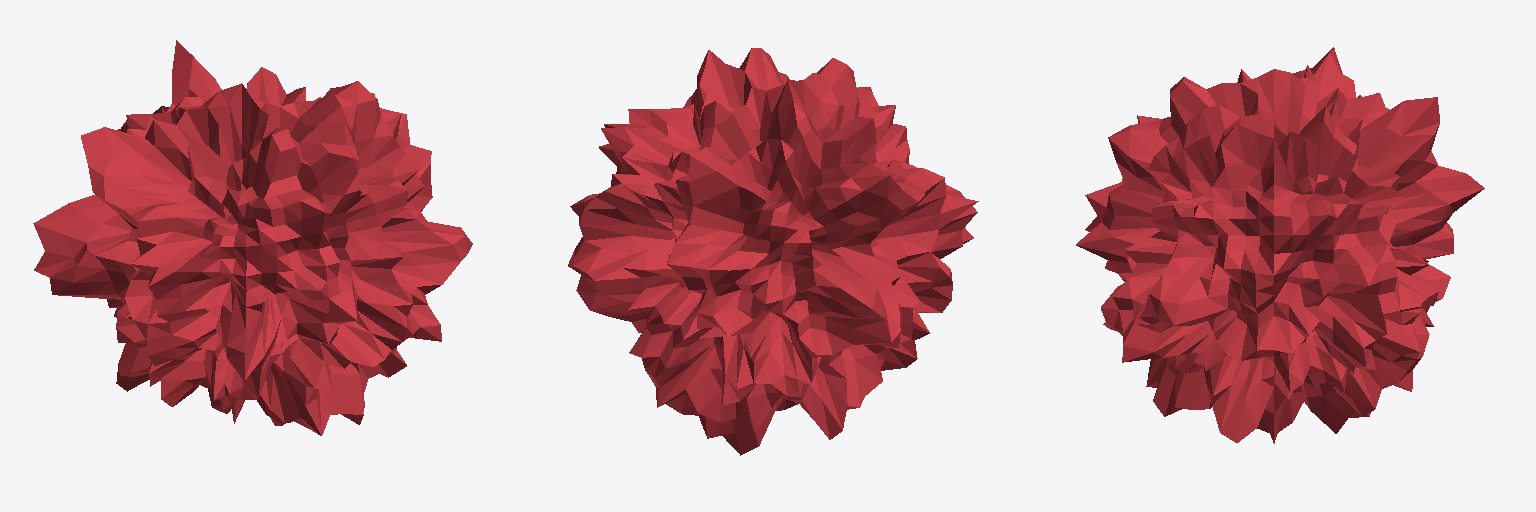
Rendered from redGlow.obj.
The picture shows the model from 3 angles: view 1: azimuth 30°, elevation 25°; view 2: azimuth 150°, elevation 25°; view 3: azimuth 270°, elevation 25°; orthographic projection.
Visible parts, largest first — view 1: Cube_Cube.001; view 2: Cube_Cube.001; view 3: Cube_Cube.001.
Boxes of the visible parts, box(x1,y1,x2,y2) form: Cube_Cube.001: box(33, 40, 472, 435); Cube_Cube.001: box(568, 48, 978, 455); Cube_Cube.001: box(1076, 47, 1484, 443).
Bounding box in the file's own units: 2.35 × 2.32 × 2.41.